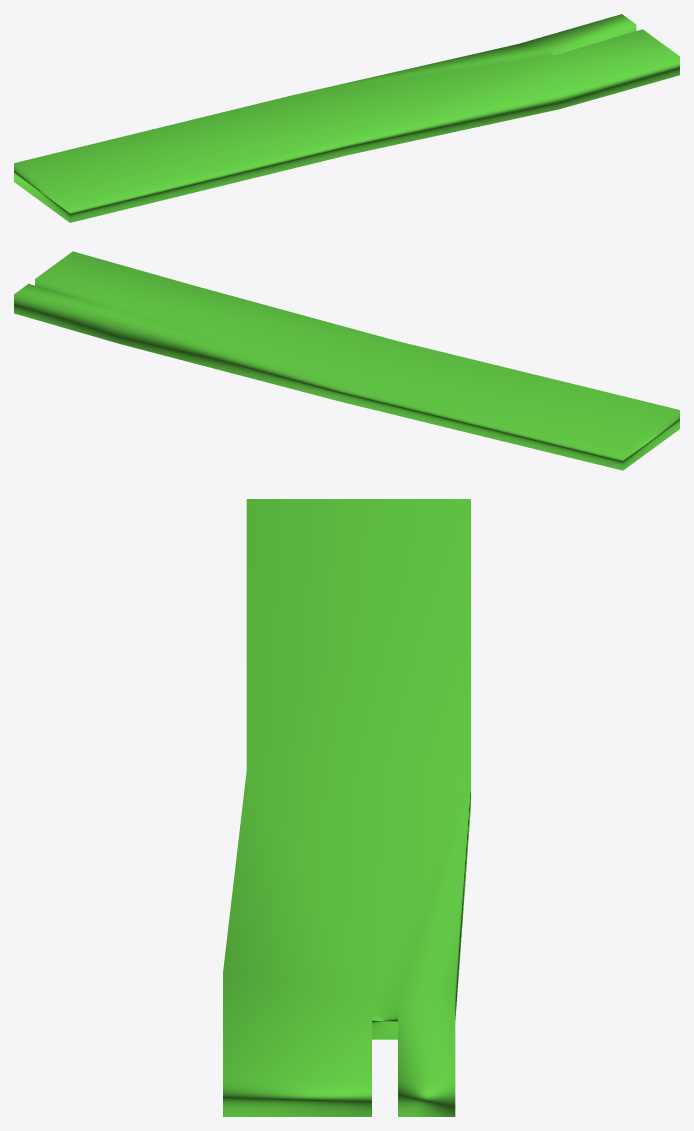
File: Board_05.fbx
The picture shows the model from 3 angles, top to bottom: view 1: azimuth 30°, elevation 25°; view 2: azimuth 150°, elevation 25°; view 3: azimuth 270°, elevation 25°; orthographic projection. The views are drawn at different scales.
Visible parts, largest first — view 1: Board_05; view 2: Board_05; view 3: Board_05.
Part boxes in pixels (x1,y1,x2,y2): Board_05: [14, 14, 679, 222]; Board_05: [14, 251, 679, 470]; Board_05: [223, 499, 470, 1116].
Bounding box in the file's own units: 108 × 4 × 19.18.
